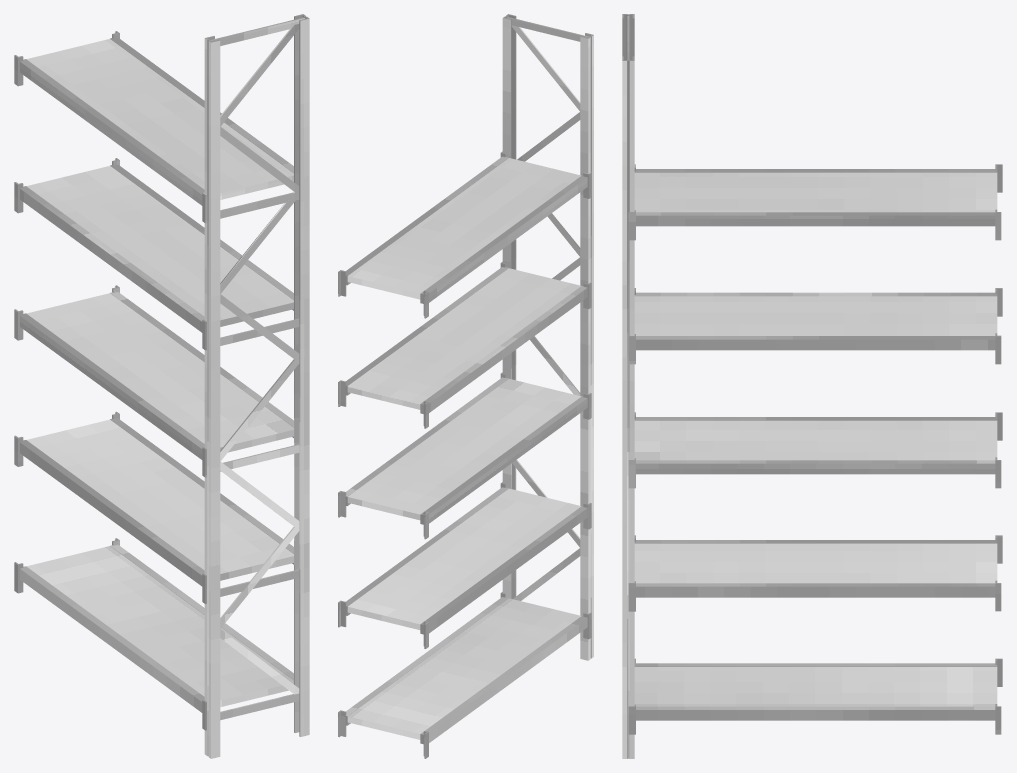
Rendered from StorageRackNarrowShortNoBoxes.glb.
3 renders of one model, left to right at view 1: azimuth 30°, elevation 25°; view 2: azimuth 150°, elevation 25°; view 3: azimuth 270°, elevation 25°, orthographic. The views are drawn at different scales.
Parts seen in each view (by area): view 1: StorageRackNarrowShortNoBoxes; view 2: StorageRackNarrowShortNoBoxes; view 3: StorageRackNarrowShortNoBoxes.
Part boxes in pixels (bbox=[...]): StorageRackNarrowShortNoBoxes: bbox=[14, 14, 309, 758]; StorageRackNarrowShortNoBoxes: bbox=[338, 14, 593, 758]; StorageRackNarrowShortNoBoxes: bbox=[622, 14, 1002, 758].
Bounding box in the file's own units: 0.6322 × 4.24 × 2.1.
Materials: 1 (1 with a texture image).
